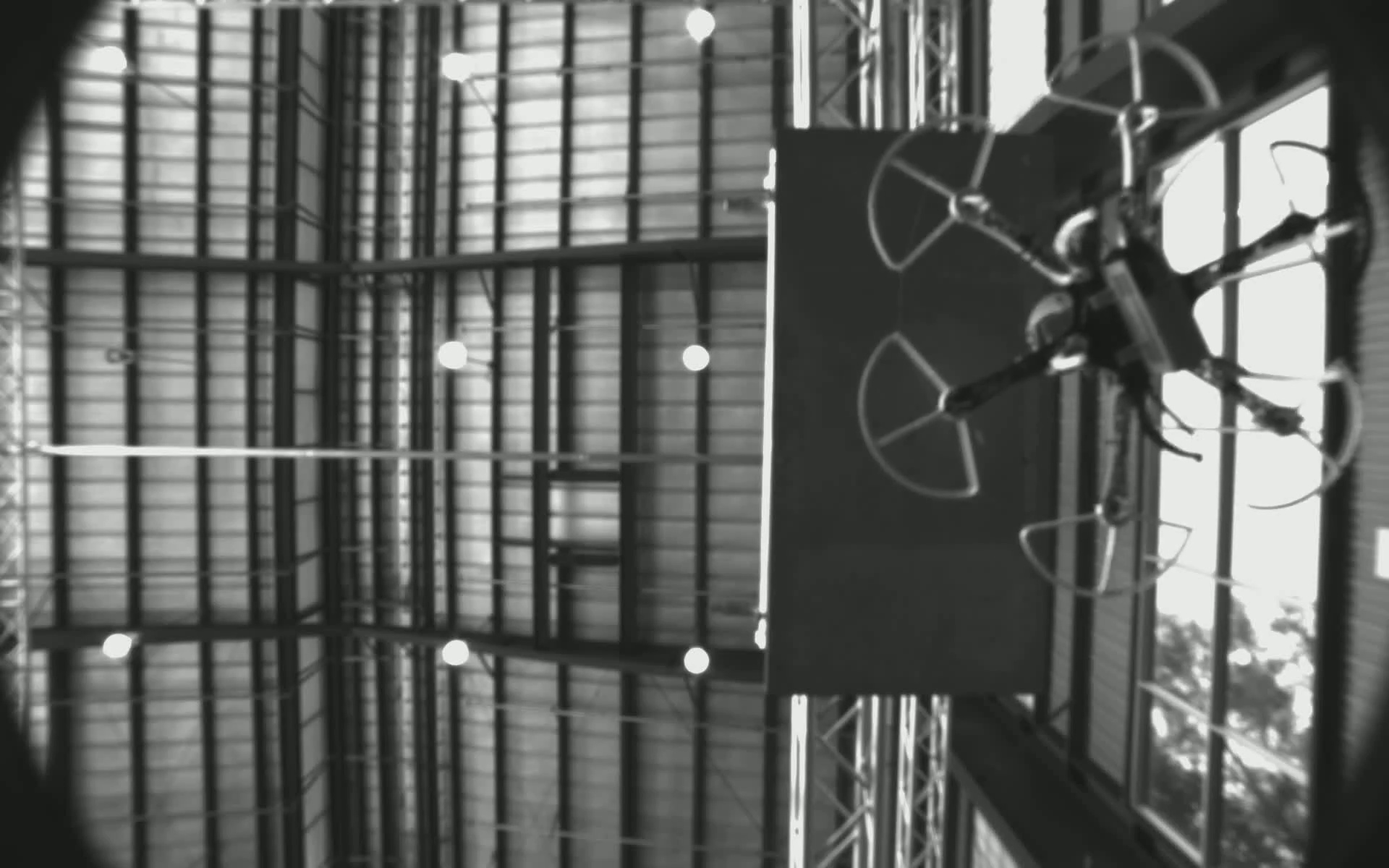drone: (854, 18, 1370, 610)
